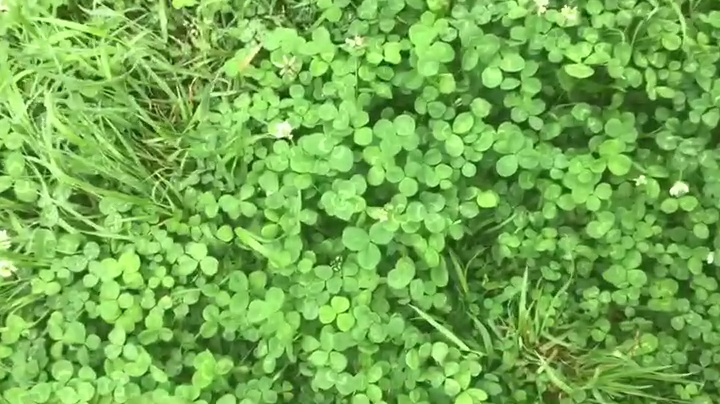4-clover: (373, 111, 419, 157)
